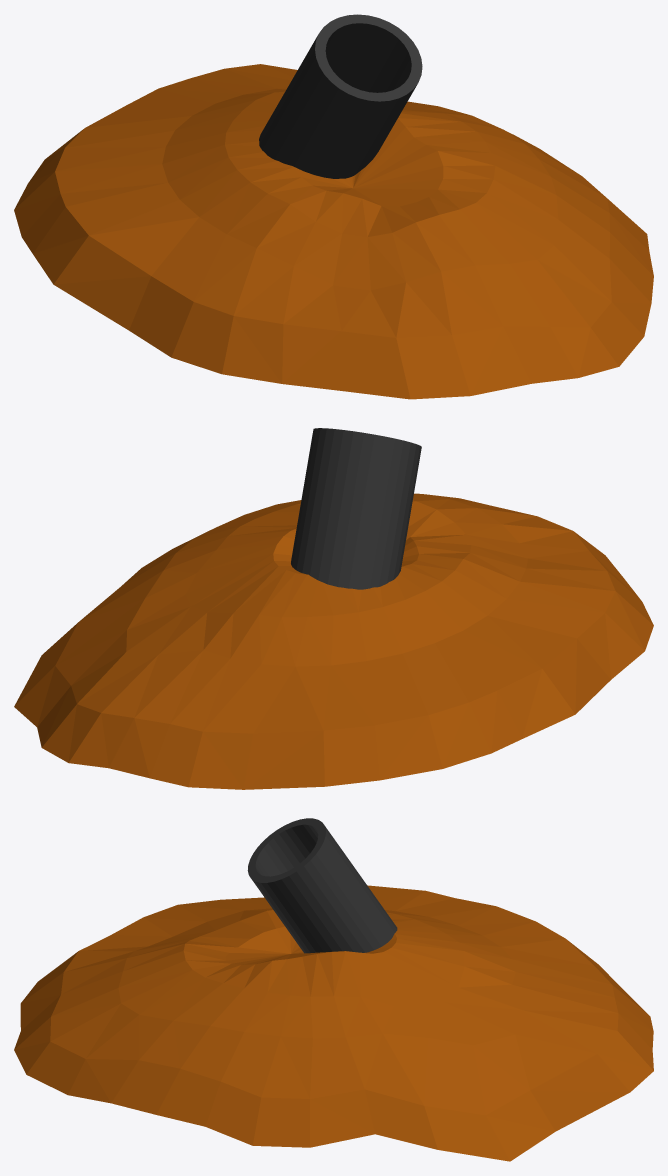
The model's file is checkpoint.obj.
The picture shows the model from 3 angles, top to bottom: view 1: azimuth 30°, elevation 25°; view 2: azimuth 150°, elevation 25°; view 3: azimuth 270°, elevation 25°; orthographic projection. The views are drawn at different scales.
Size of the model in its own units: 8.4 by 4.16 by 10.39.
